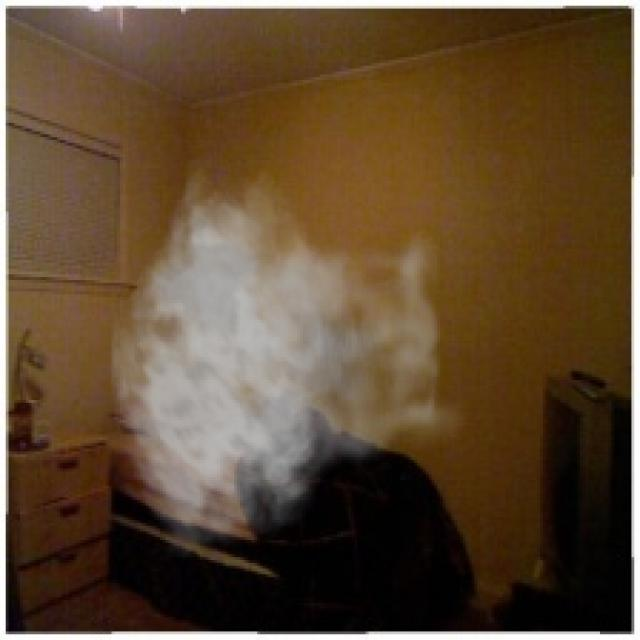smoke: (109, 160, 474, 557)
